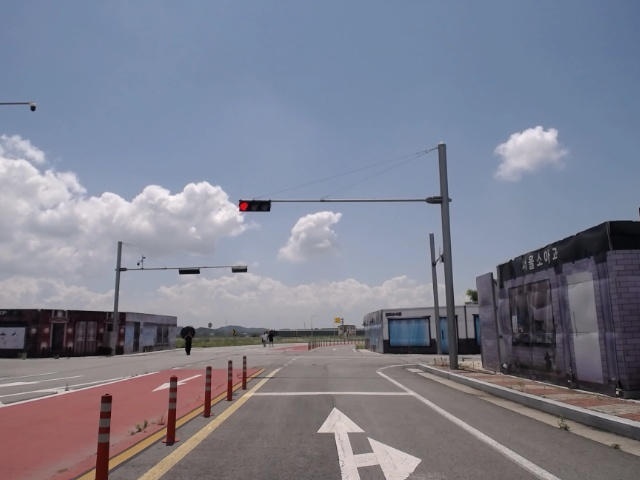red_3: (239, 199, 272, 212)
